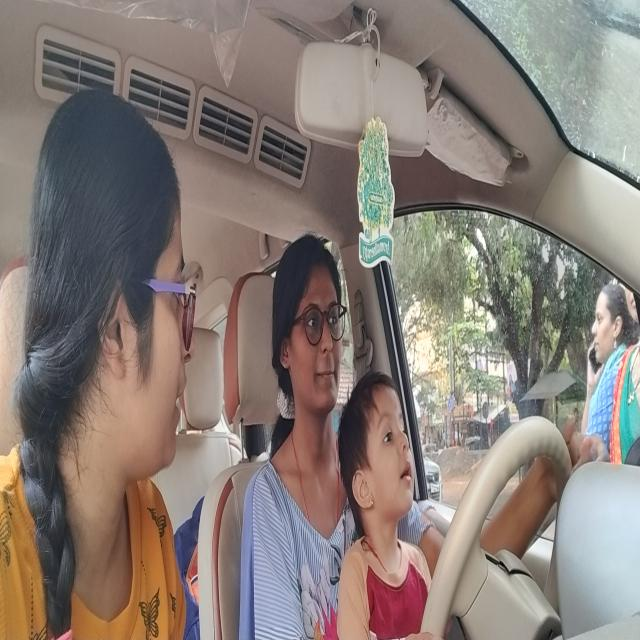child: (344, 384, 418, 525)
person: (76, 70, 190, 463), (274, 238, 344, 420)
